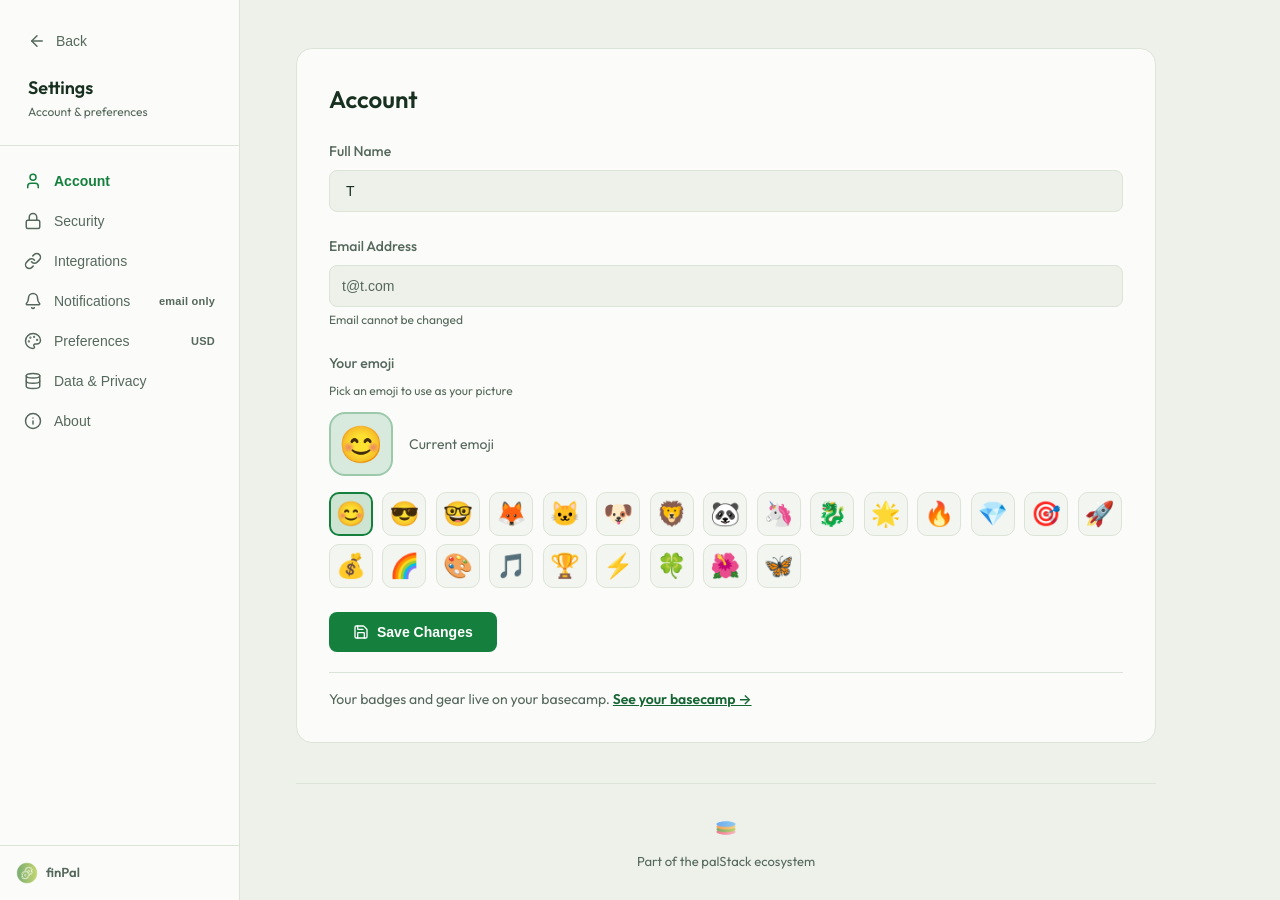
Scenario: Settings — an error belongs to the form that produced it (#145) › does NOT carry that error onto the Account tab
Expected: the text "Security" is shown, [54,213,105,229]
Click the button "Security" at (120, 221), box [12,202,227,240]
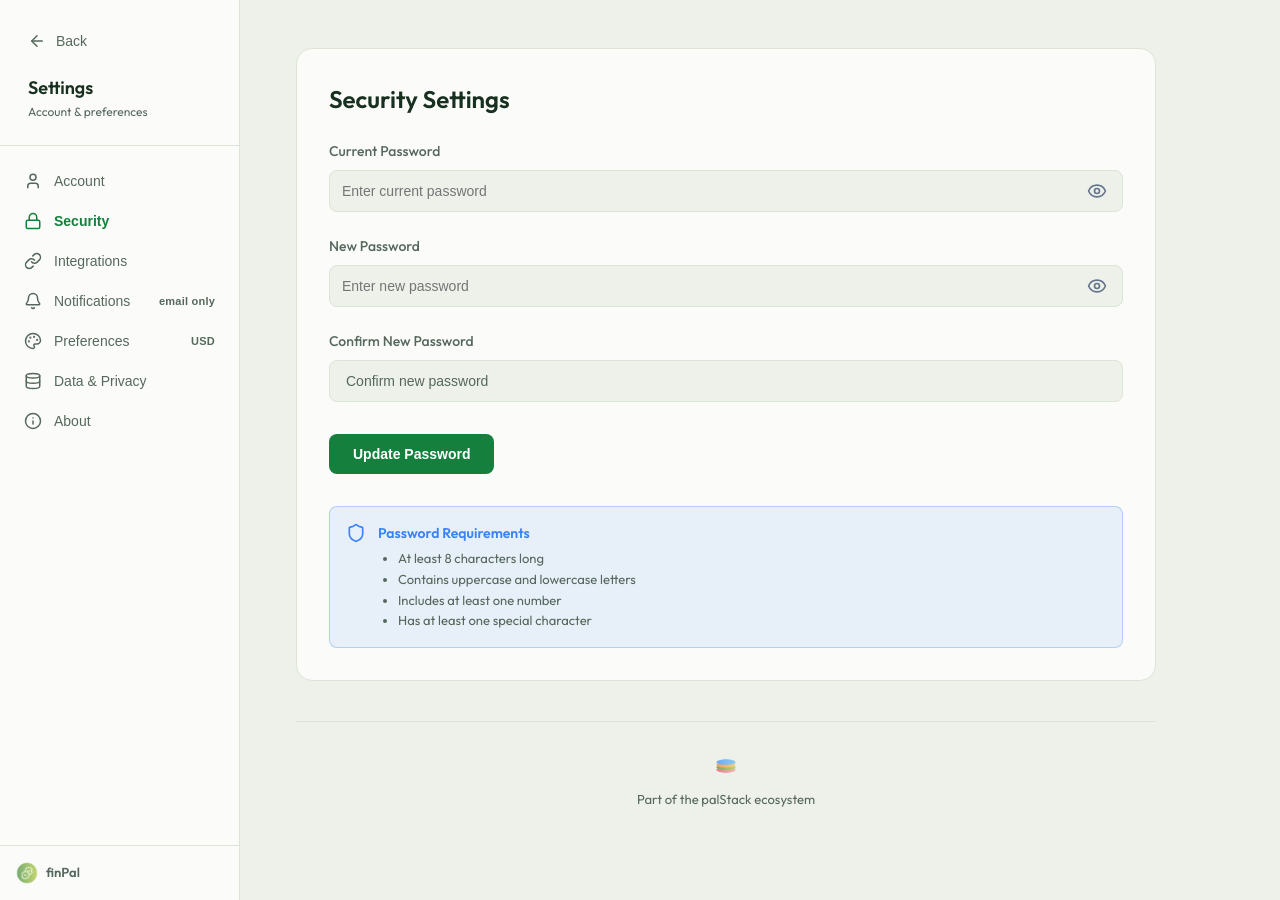
Type "whatever" into the password field with placeholder "Enter current password" at (726, 191), box [329,170,1123,212]
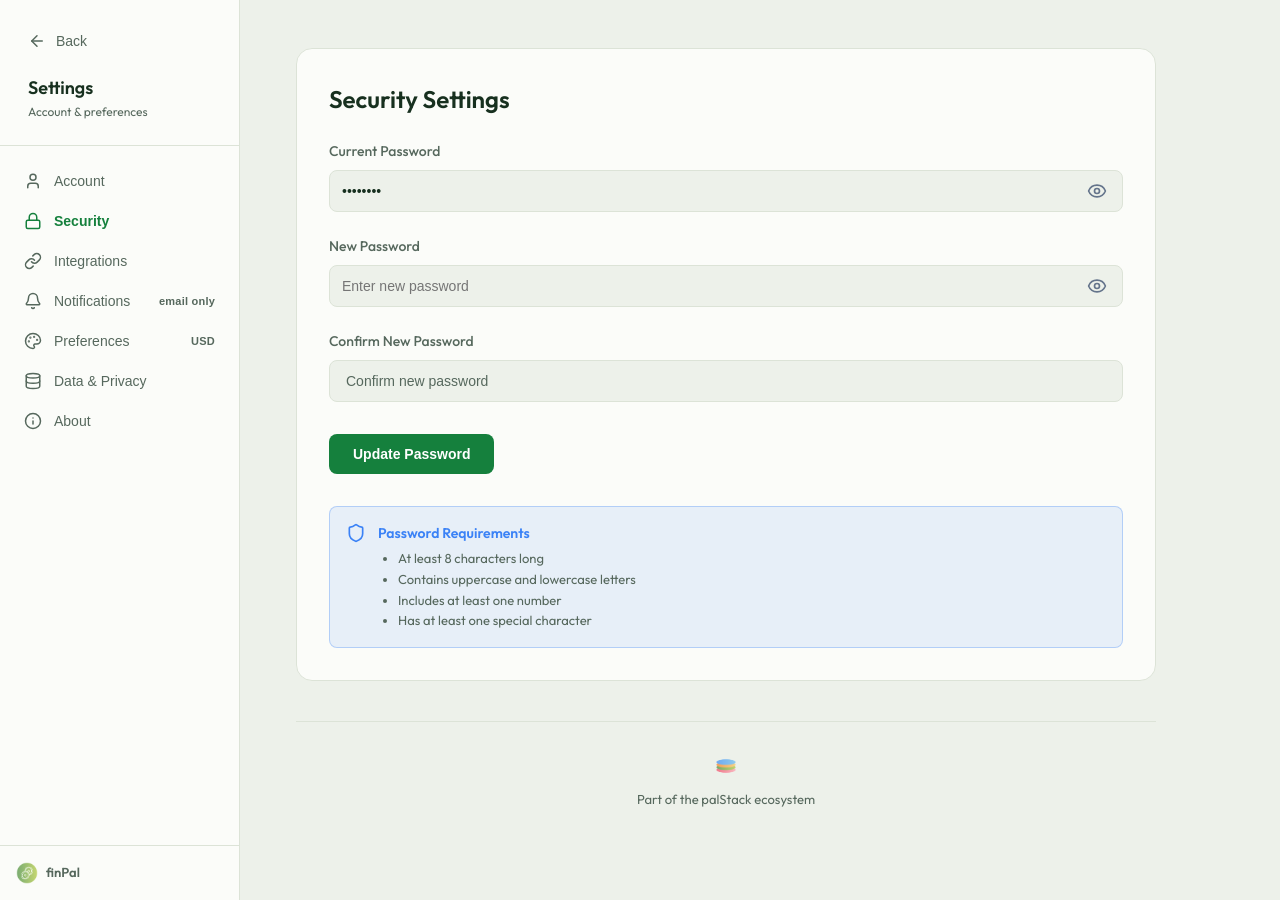
Type "newpassword123" into the password field with placeholder "Enter new password" at (726, 286), box [329,265,1123,307]
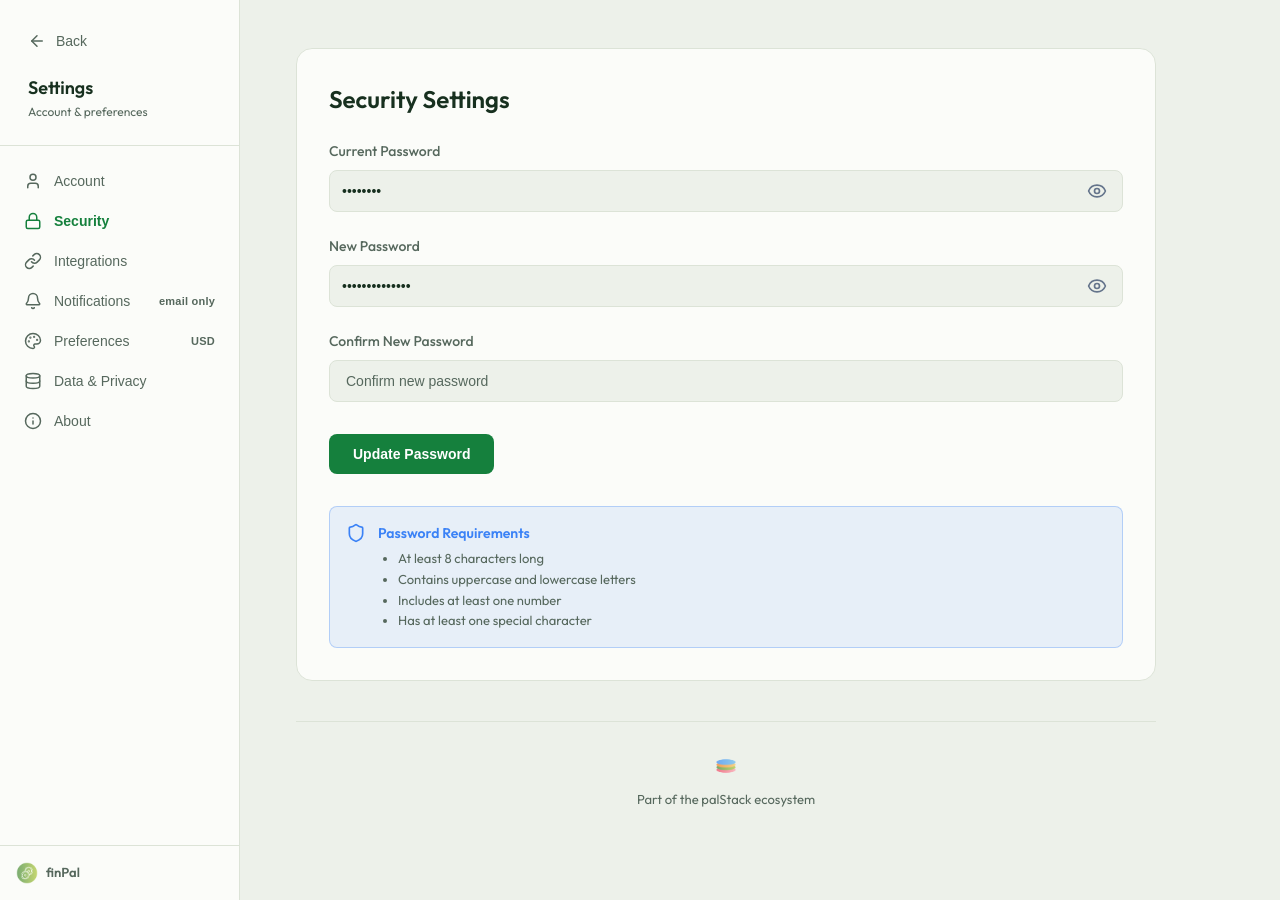
Type "DIFFERENT-password" into the password field with placeholder "Confirm new password" at (726, 381), box [329,360,1123,402]
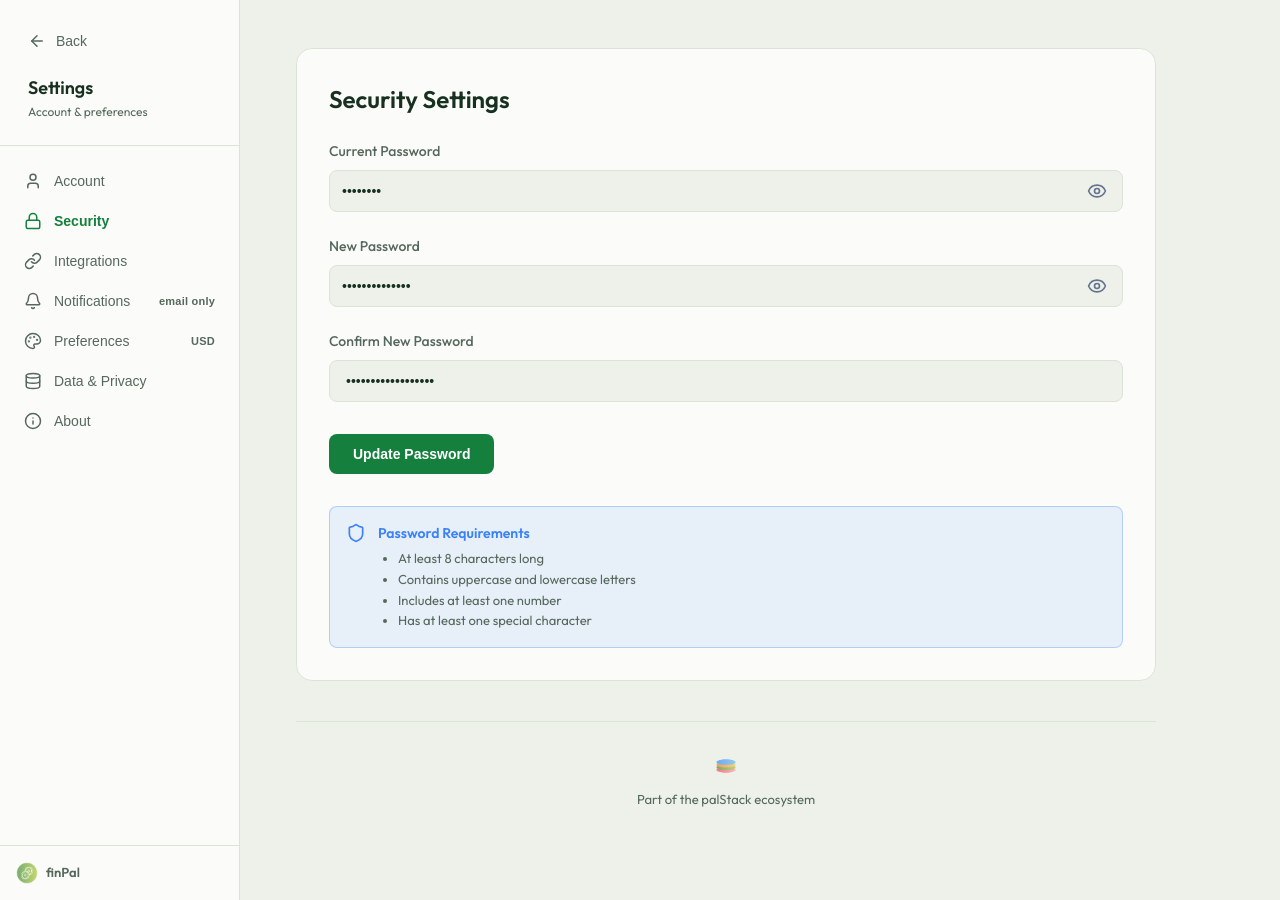
Click the button "Update Password" at (412, 454), box [329,434,494,474]
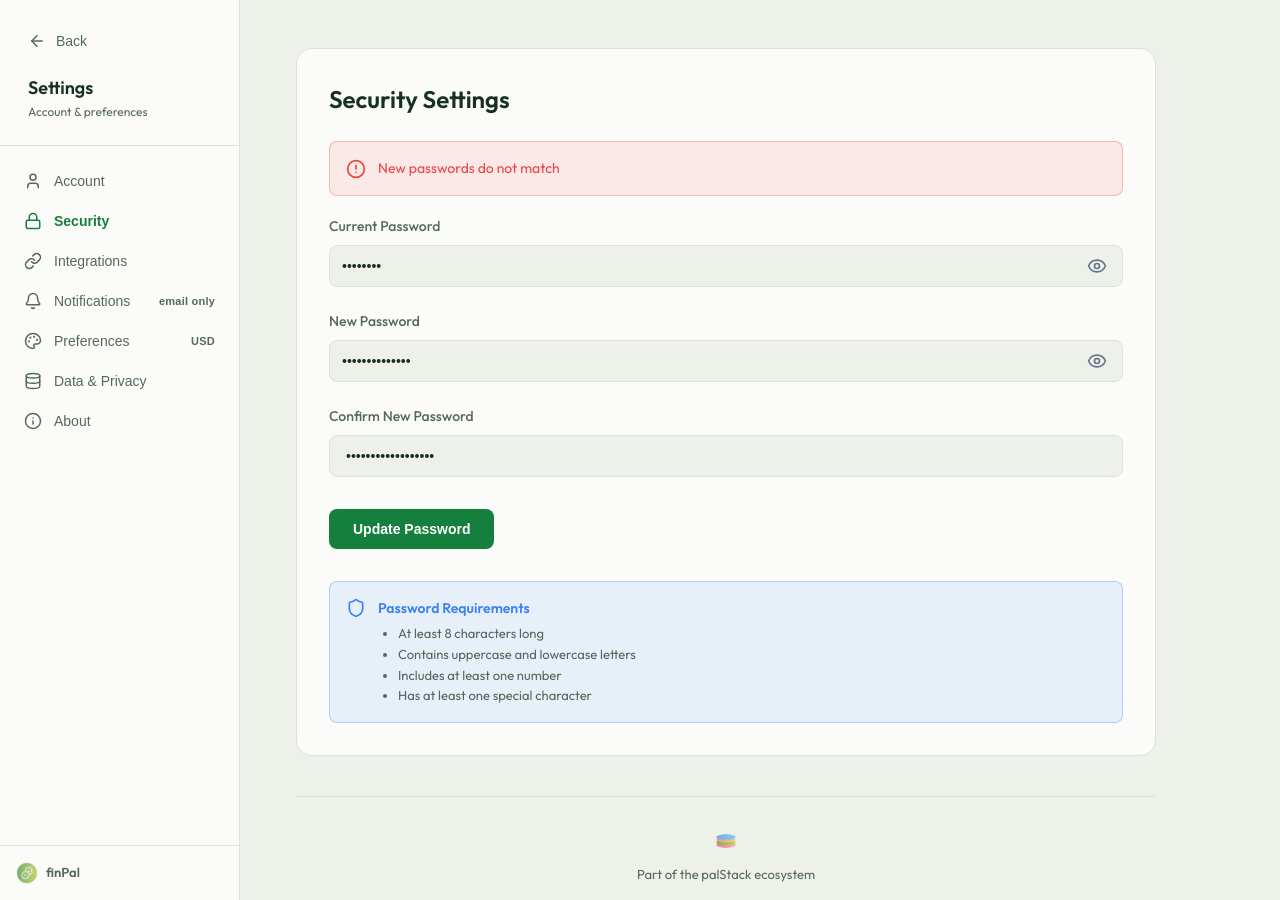
Expected: the text "Account" is shown, [54,173,105,189]
Expected: the text "New passwords do not match" is shown, [378,158,560,179]
Click the button "Account" at (120, 181), box [12,162,227,200]
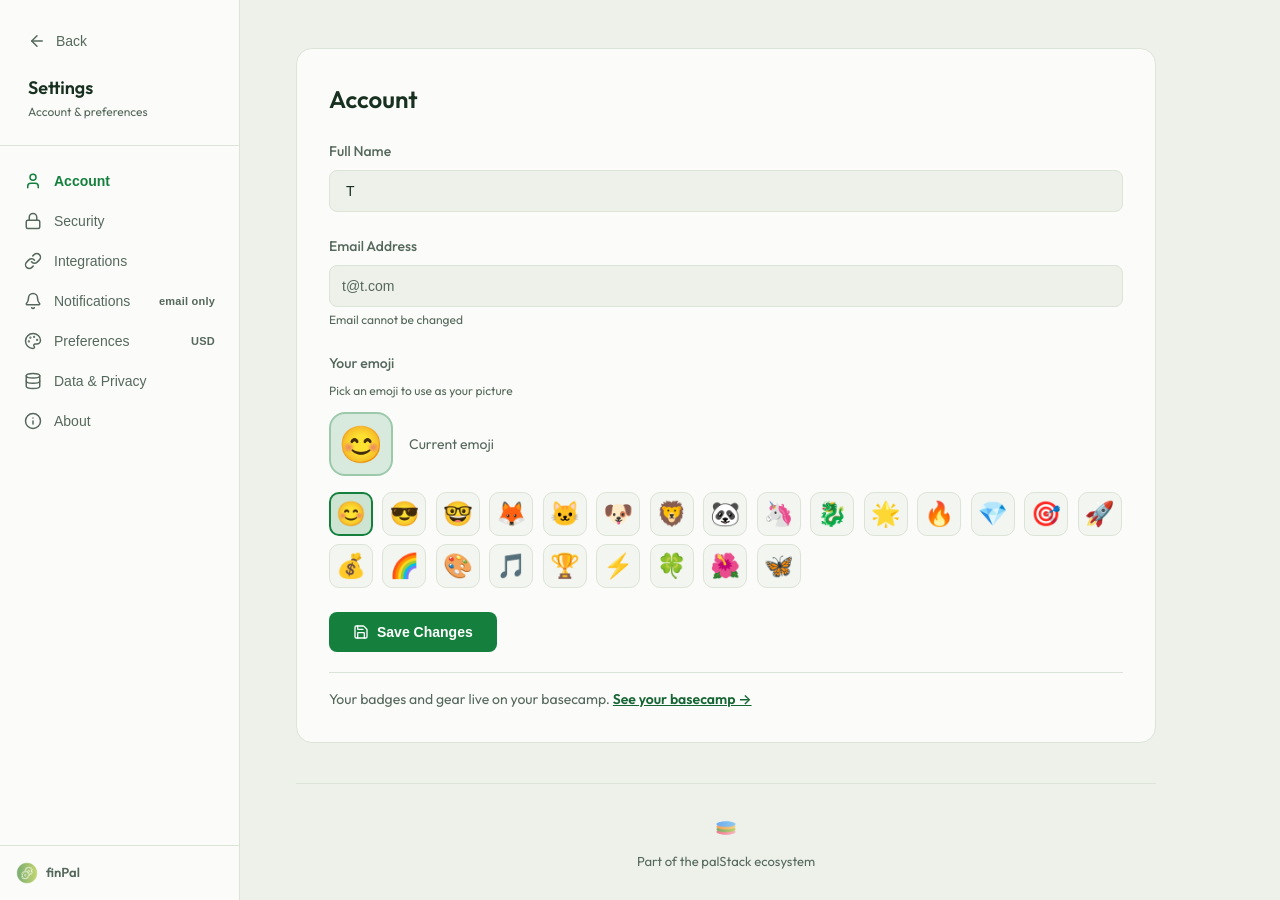
Expected: the text "passwords do not match" is gone
